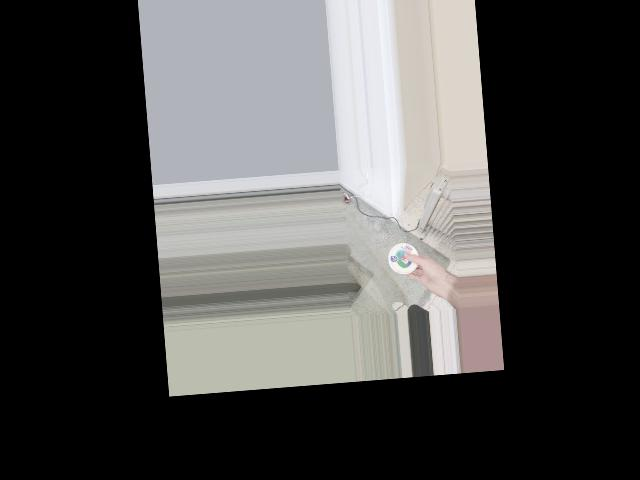cotage: (389, 243, 420, 274)
